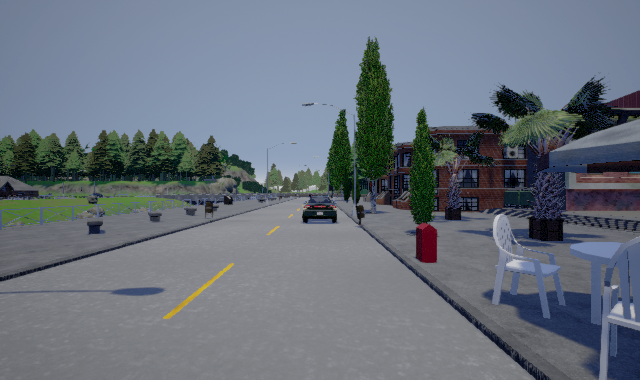vehicle: (302, 194, 337, 223)
